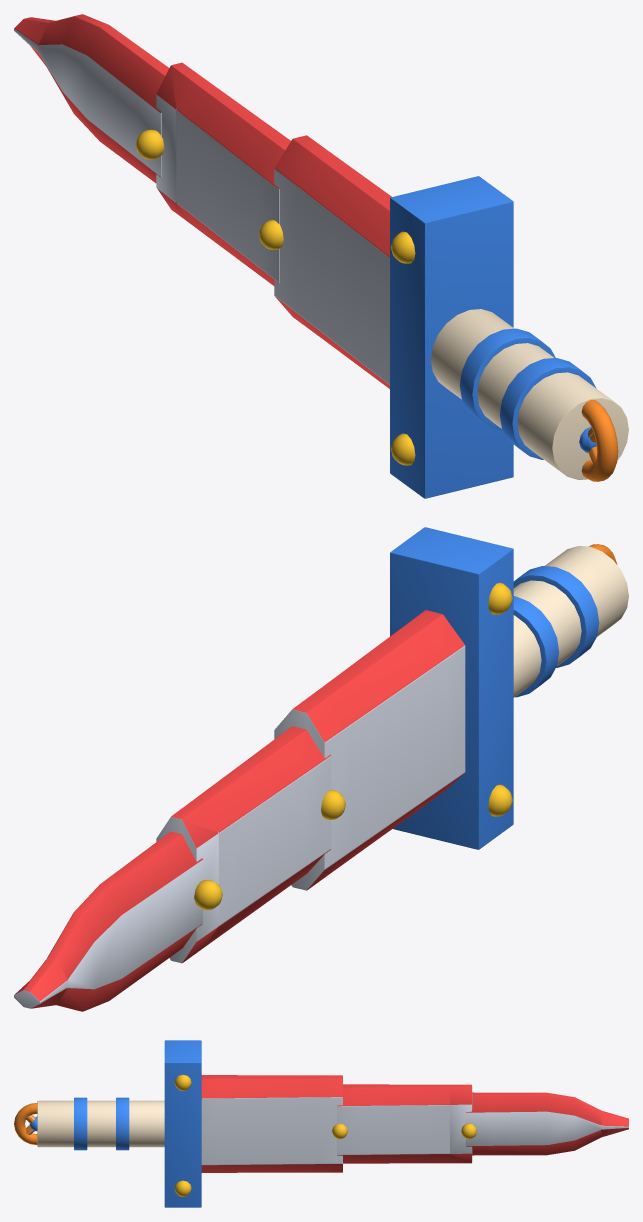
File: Sword_RivetsteelBlade.glb
3 views of the same model, one above another, from view 1: azimuth 30°, elevation 25°; view 2: azimuth 150°, elevation 25°; view 3: azimuth 270°, elevation 25° (orthographic). The views are drawn at different scales.
Parts seen in each view (by area): view 1: Sword_RivetsteelBlade; view 2: Sword_RivetsteelBlade; view 3: Sword_RivetsteelBlade.
Boxes of the visible parts, x1,y1,x2,y2 form: Sword_RivetsteelBlade: [14, 14, 628, 498]; Sword_RivetsteelBlade: [14, 527, 628, 1011]; Sword_RivetsteelBlade: [14, 1040, 628, 1207].
Size of the model in its own units: 0.116 by 0.26 by 1.
Materials: 1 (1 with a texture image).
